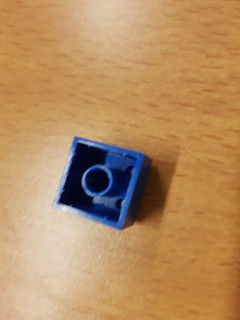2x2 blue: (50, 134, 154, 233)
